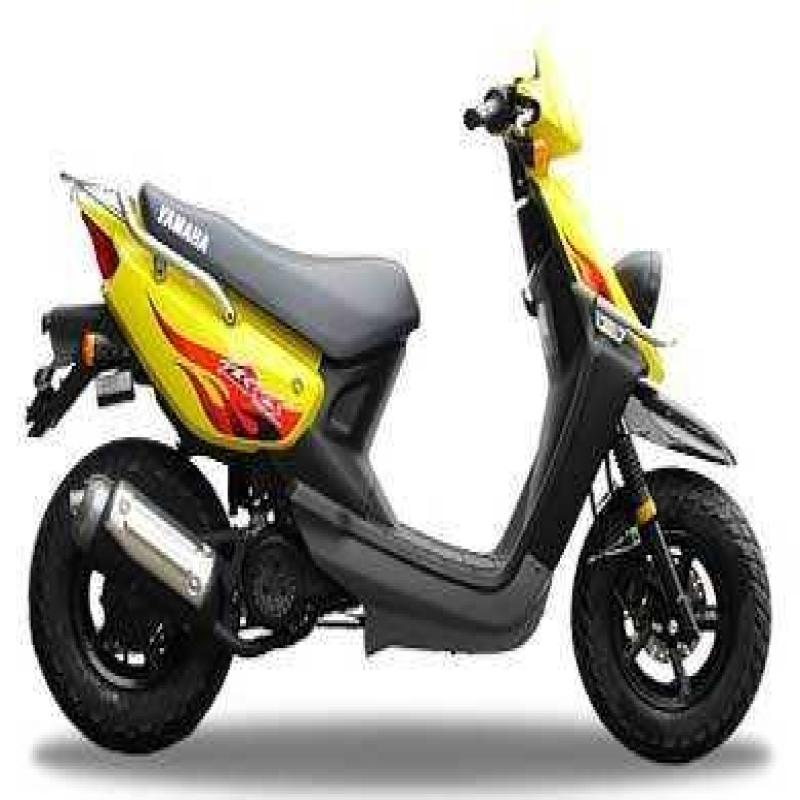bike: (38, 36, 770, 800)
